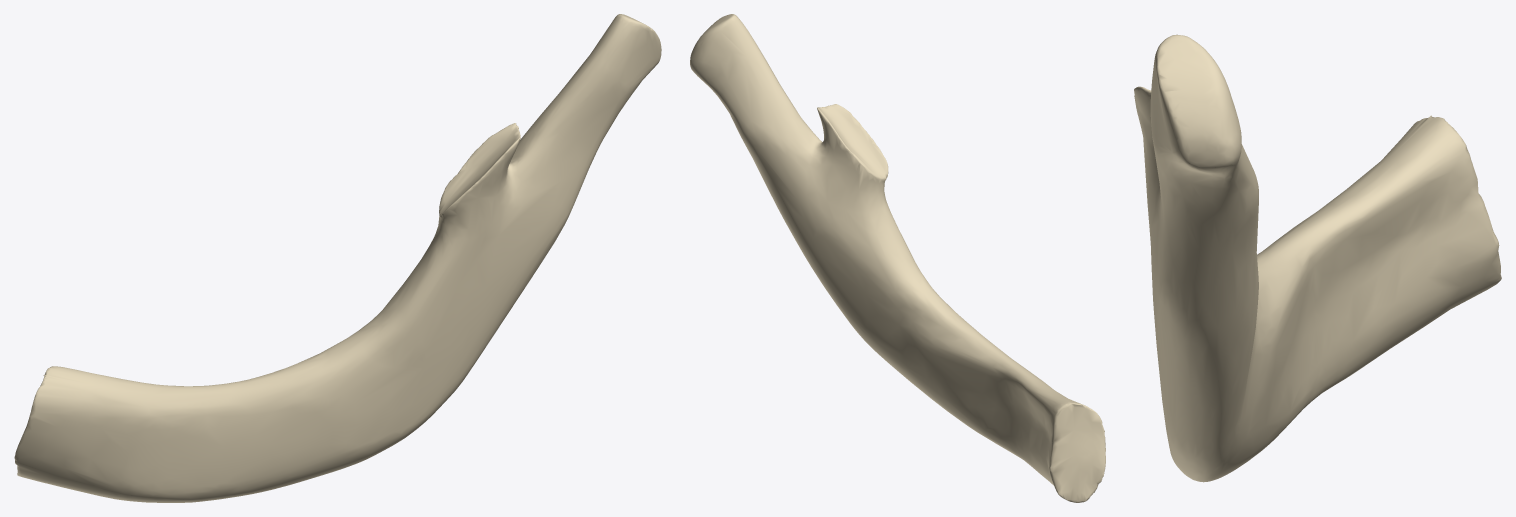
The model's file is esqueleto-costal-cartilage-of-seventh-rib-r.glb.
The picture shows the model from 3 angles, left to right: view 1: azimuth 30°, elevation 25°; view 2: azimuth 150°, elevation 25°; view 3: azimuth 270°, elevation 25°; orthographic projection. The views are drawn at different scales.
Visible parts, largest first — view 1: Costal cartilage of seventh rib.r; view 2: Costal cartilage of seventh rib.r; view 3: Costal cartilage of seventh rib.r.
Part boxes in pixels (left/top/right/bottom): Costal cartilage of seventh rib.r: left=14, top=14, right=661, bottom=502; Costal cartilage of seventh rib.r: left=690, top=14, right=1105, bottom=502; Costal cartilage of seventh rib.r: left=1134, top=34, right=1501, bottom=482.
Bounding box in the file's own units: 0.1081 × 0.0755 × 0.0367.
